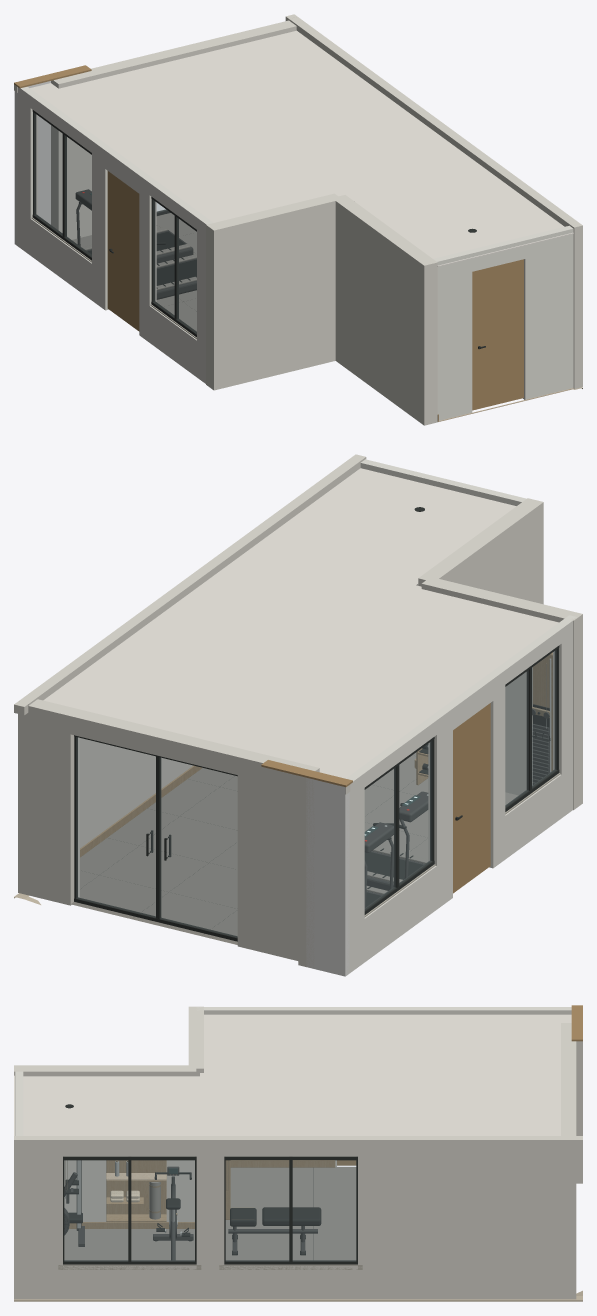
The picture shows the model from 3 angles, top to bottom: view 1: azimuth 30°, elevation 25°; view 2: azimuth 150°, elevation 25°; view 3: azimuth 270°, elevation 25°; orthographic projection. The views are drawn at different scales.
Parts seen in each view (by area): view 1: Gym 01 | ivory ceiling finish.001, Proposal | Garage north store separation end pier.001, Proposal | Garage east separation end pier.001, Proposal | Boot utility partition end pier.001, Proposal | Boot utility inward door leaf.001, Proposal | Boot utility partition pier 0.001, Proposal | Gym west partition window 2 glass.001, Proposal | Gym west partition door 1 leaf.001, Proposal | Gym west partition window 0 glass.001, Proposal | North ground facade east pier 0.001, Proposal | Storey edge closure | east main wing.001, Proposal | Gym west partition pier 2.001 (+16 smaller); view 2: Gym 01 | ivory ceiling finish.001, Gym 01 | continuous rubber floor.002, Proposal | Internal garden double doors entry right glass.00, Proposal | Internal garden double doors entry left glass.001, Proposal | North ground facade east pier 0.001, Proposal | North ground facade east end pier.001, Proposal | North ground facade end pier.001, Proposal | New wing east end pier.001, Proposal | Gym west partition window 2 glass.001, Proposal | Garage east separation end pier.001, Proposal | Garage north store separation end pier.001, Proposal | Gym west partition door 1 leaf.001 (+21 smaller); view 3: Gym 01 | ivory ceiling finish.001, Proposal | New wing east end pier.001, Gym 01 | continuous rubber floor.002, Proposal | New wing east window 1 glass.001, Proposal | New wing east window 2 glass.001, Proposal | New wing east pier 1.001, Proposal | Garage east separation end pier.001, Proposal | New wing east pier 2.001, Proposal | New wing east sill 1.001, Proposal | New wing east sill 2.001, Proposal | Storey edge closure | east main wing.001, Proposal | New wing east head 1.001 (+28 smaller).
Boxes of the visible parts, x1,y1,x2,y2 form: Gym 01 | ivory ceiling finish.001: [30, 30, 564, 258]; Proposal | Garage north store separation end pier.001: [206, 193, 341, 390]; Proposal | Garage east separation end pier.001: [334, 195, 437, 425]; Proposal | Boot utility partition end pier.001: [521, 225, 573, 399]; Proposal | Boot utility inward door leaf.001: [472, 259, 523, 410]; Proposal | Boot utility partition pier 0.001: [433, 250, 472, 420]; Proposal | Gym west partition window 2 glass.001: [35, 114, 91, 255]; Proposal | Gym west partition door 1 leaf.001: [107, 171, 139, 331]; Proposal | Gym west partition window 0 glass.001: [154, 201, 196, 332]; Proposal | North ground facade east pier 0.001: [51, 63, 119, 239]; Proposal | Storey edge closure | east main wing.001: [289, 17, 582, 228]; Proposal | Gym west partition pier 2.001: [92, 139, 111, 310]; Gym 01 | ivory ceiling finish.001: [43, 468, 558, 778]; Gym 01 | continuous rubber floor.002: [71, 752, 518, 944]; Proposal | Internal garden double doors entry right glass.00: [77, 737, 155, 916]; Proposal | Internal garden double doors entry left glass.001: [161, 758, 237, 936]; Proposal | North ground facade east pier 0.001: [237, 750, 319, 960]; Proposal | North ground facade east end pier.001: [18, 699, 79, 905]; Proposal | North ground facade end pier.001: [306, 777, 349, 976]; Proposal | New wing east end pier.001: [18, 610, 159, 895]; Proposal | Gym west partition window 2 glass.001: [365, 742, 430, 908]; Proposal | Garage east separation end pier.001: [418, 498, 543, 604]; Proposal | Garage north store separation end pier.001: [421, 577, 582, 810]; Proposal | Gym west partition door 1 leaf.001: [453, 703, 490, 893]; Gym 01 | ivory ceiling finish.001: [23, 1014, 571, 1135]; Proposal | New wing east end pier.001: [358, 1141, 576, 1299]; Gym 01 | continuous rubber floor.002: [64, 1167, 356, 1260]; Proposal | New wing east window 1 glass.001: [64, 1160, 194, 1260]; Proposal | New wing east window 2 glass.001: [226, 1160, 355, 1260]; Proposal | New wing east pier 1.001: [14, 1141, 62, 1299]; Proposal | Garage east separation end pier.001: [14, 1065, 196, 1221]; Proposal | New wing east pier 2.001: [196, 1141, 224, 1299]; Proposal | New wing east sill 1.001: [63, 1266, 196, 1299]; Proposal | New wing east sill 2.001: [224, 1266, 357, 1299]; Proposal | Storey edge closure | east main wing.001: [14, 1136, 576, 1141]; Proposal | New wing east head 1.001: [63, 1141, 196, 1156].
Bounding box in the file's own units: 4.77 × 2.66 × 8.5.
26 materials, 5 textured.
